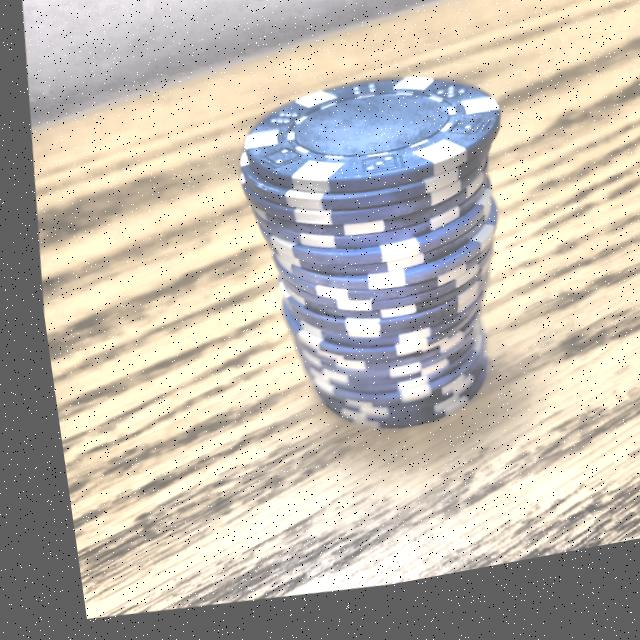Chip: (171, 34, 566, 507)
